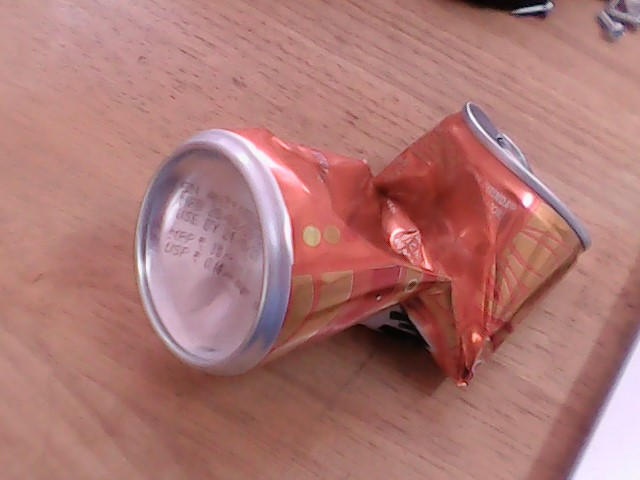Metal: (125, 128, 609, 375)
